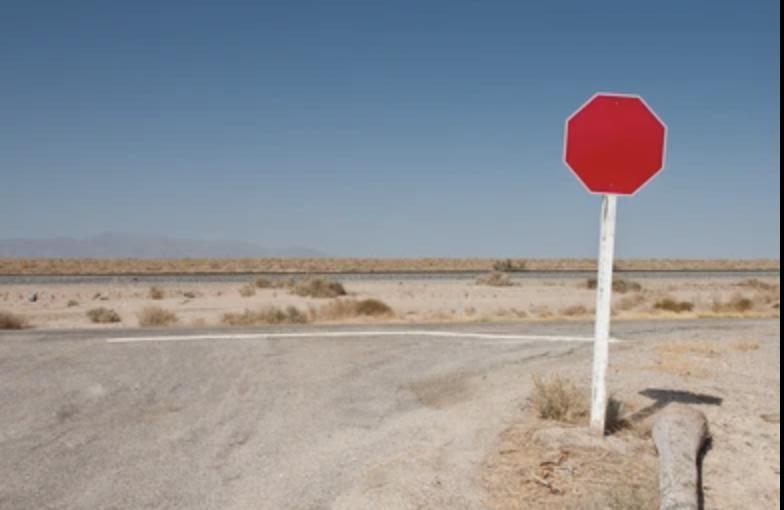Stop-Sign: (564, 94, 667, 194)
